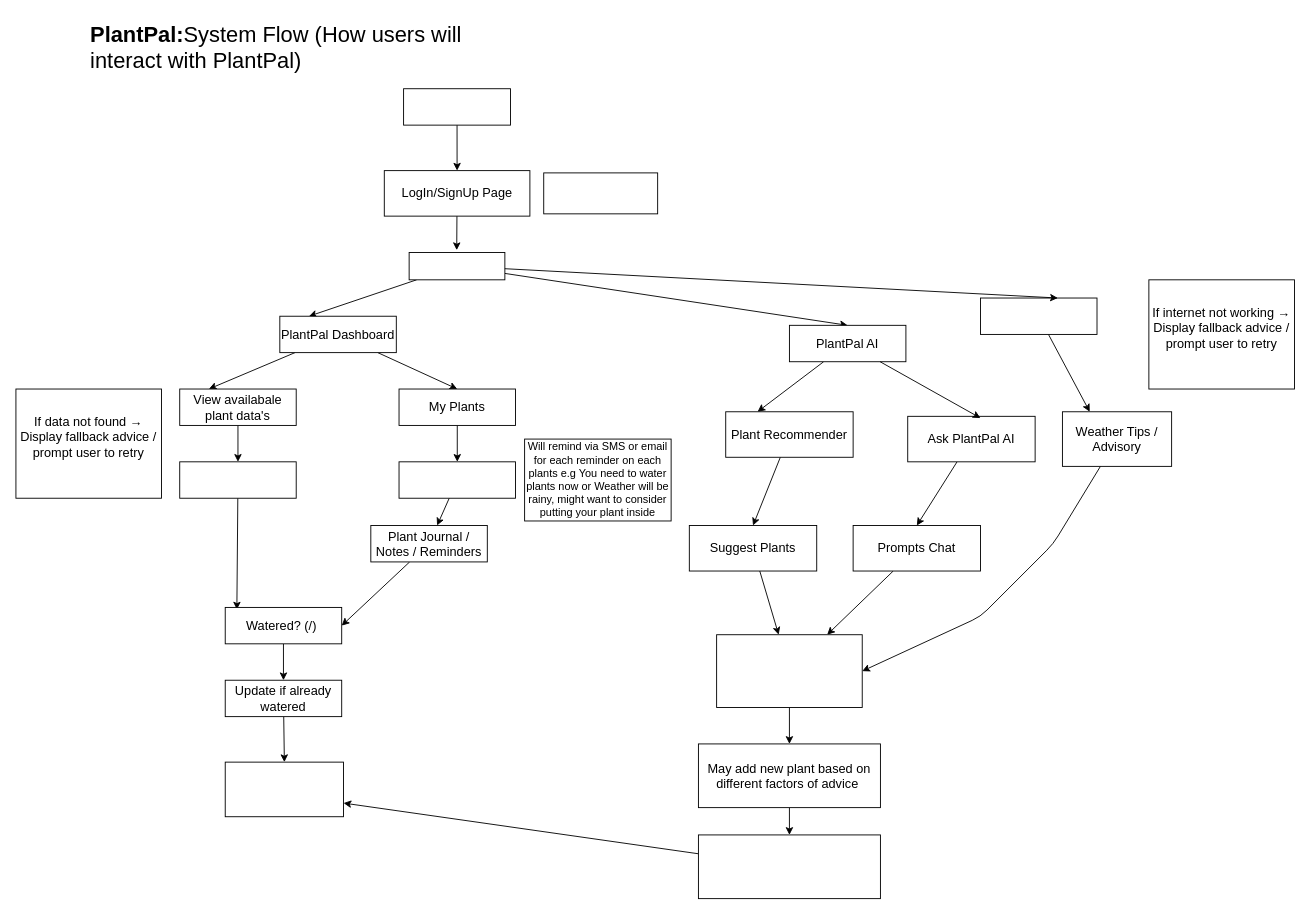
The diagram is 1310 pixels wide and 915 high, and some of its shapes have lost their labels. Here are the shapes that lost their labels. From the top down, the centre of each, then its label:
the point at 457,106: User start point
the point at 600,193: Optional because of time constrainsts
the point at 456,266: Home Screen
the point at 1038,315: Weather Assistant
the point at 237,479: Plant Details
the point at 457,479: Plant Status
the point at 789,671: Advice Based on Inpuit (watering habits, location, mood logs)
the point at 284,789: Return to Home / Exit App
the point at 789,866: Plant Journale Based on given Advice
